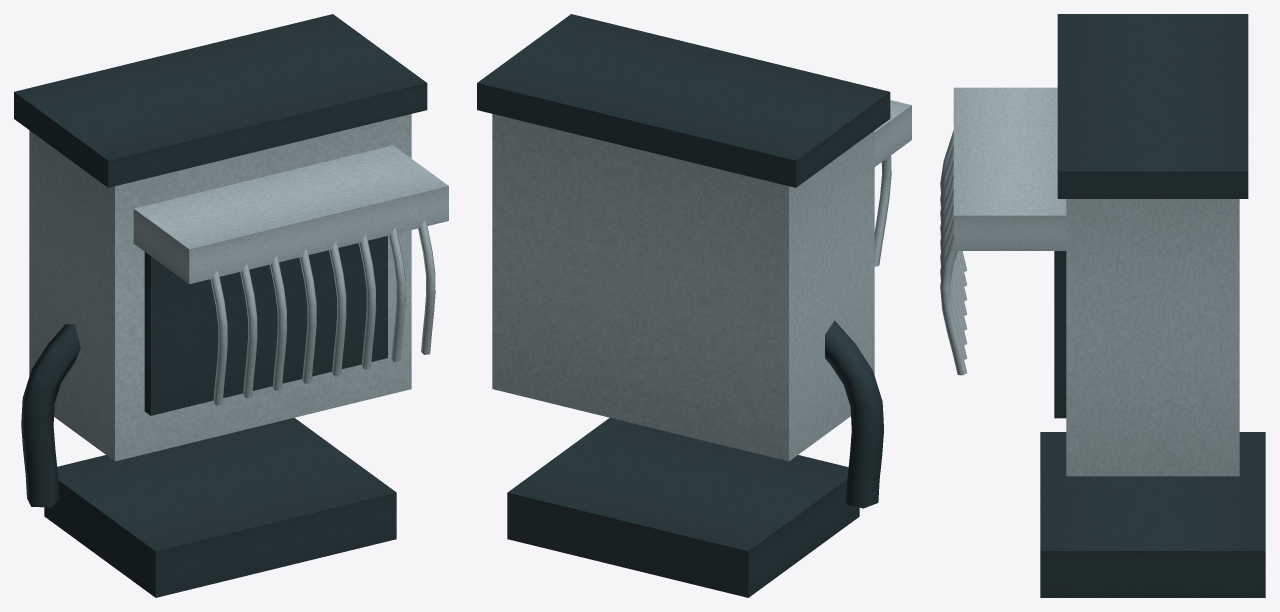
The model's file is filter_2.glb.
3 renders of one model, left to right at view 1: azimuth 30°, elevation 25°; view 2: azimuth 150°, elevation 25°; view 3: azimuth 270°, elevation 25°, orthographic.
Parts seen in each view (by area): view 1: static_ornament; view 2: static_ornament; view 3: static_ornament.
Boxes of the visible parts, left/top/right/bottom form: static_ornament: left=14, top=14, right=448, bottom=597; static_ornament: left=477, top=14, right=911, bottom=597; static_ornament: left=940, top=14, right=1265, bottom=597.
Bounding box in the file's own units: 0.9636 × 1.13 × 0.7514.
Materials: 1 (1 with a texture image).
